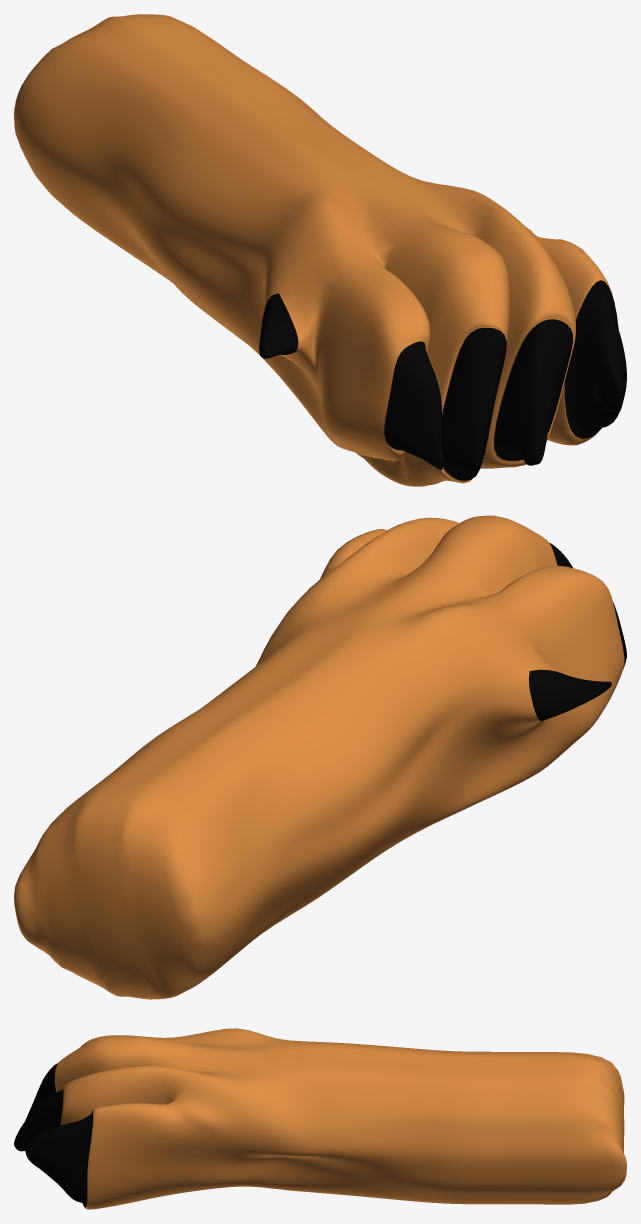
File: Dog_L_Paw_Tex.fbx
3 views of the same model, one above another, from view 1: azimuth 30°, elevation 25°; view 2: azimuth 150°, elevation 25°; view 3: azimuth 270°, elevation 25° (orthographic). The views are drawn at different scales.
Visible parts, largest first — view 1: Cylinder; view 2: Cylinder; view 3: Cylinder.
Part boxes in pixels (left/top/right/bottom): Cylinder: left=14, top=14, right=626, bottom=486; Cylinder: left=14, top=515, right=626, bottom=999; Cylinder: left=14, top=1028, right=626, bottom=1209.
Size of the model in its own units: 52.5 by 38.64 by 137.
